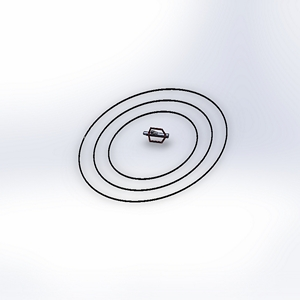circle: (73, 81, 234, 208)
submarine: (139, 123, 176, 148)
